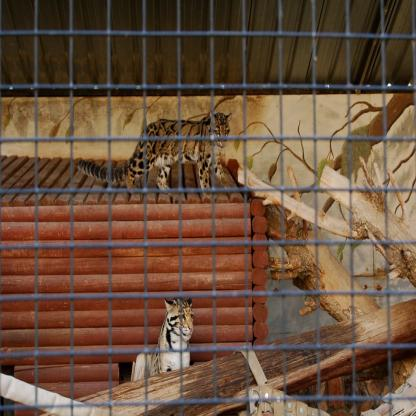Tiger: (152, 296, 196, 372)
